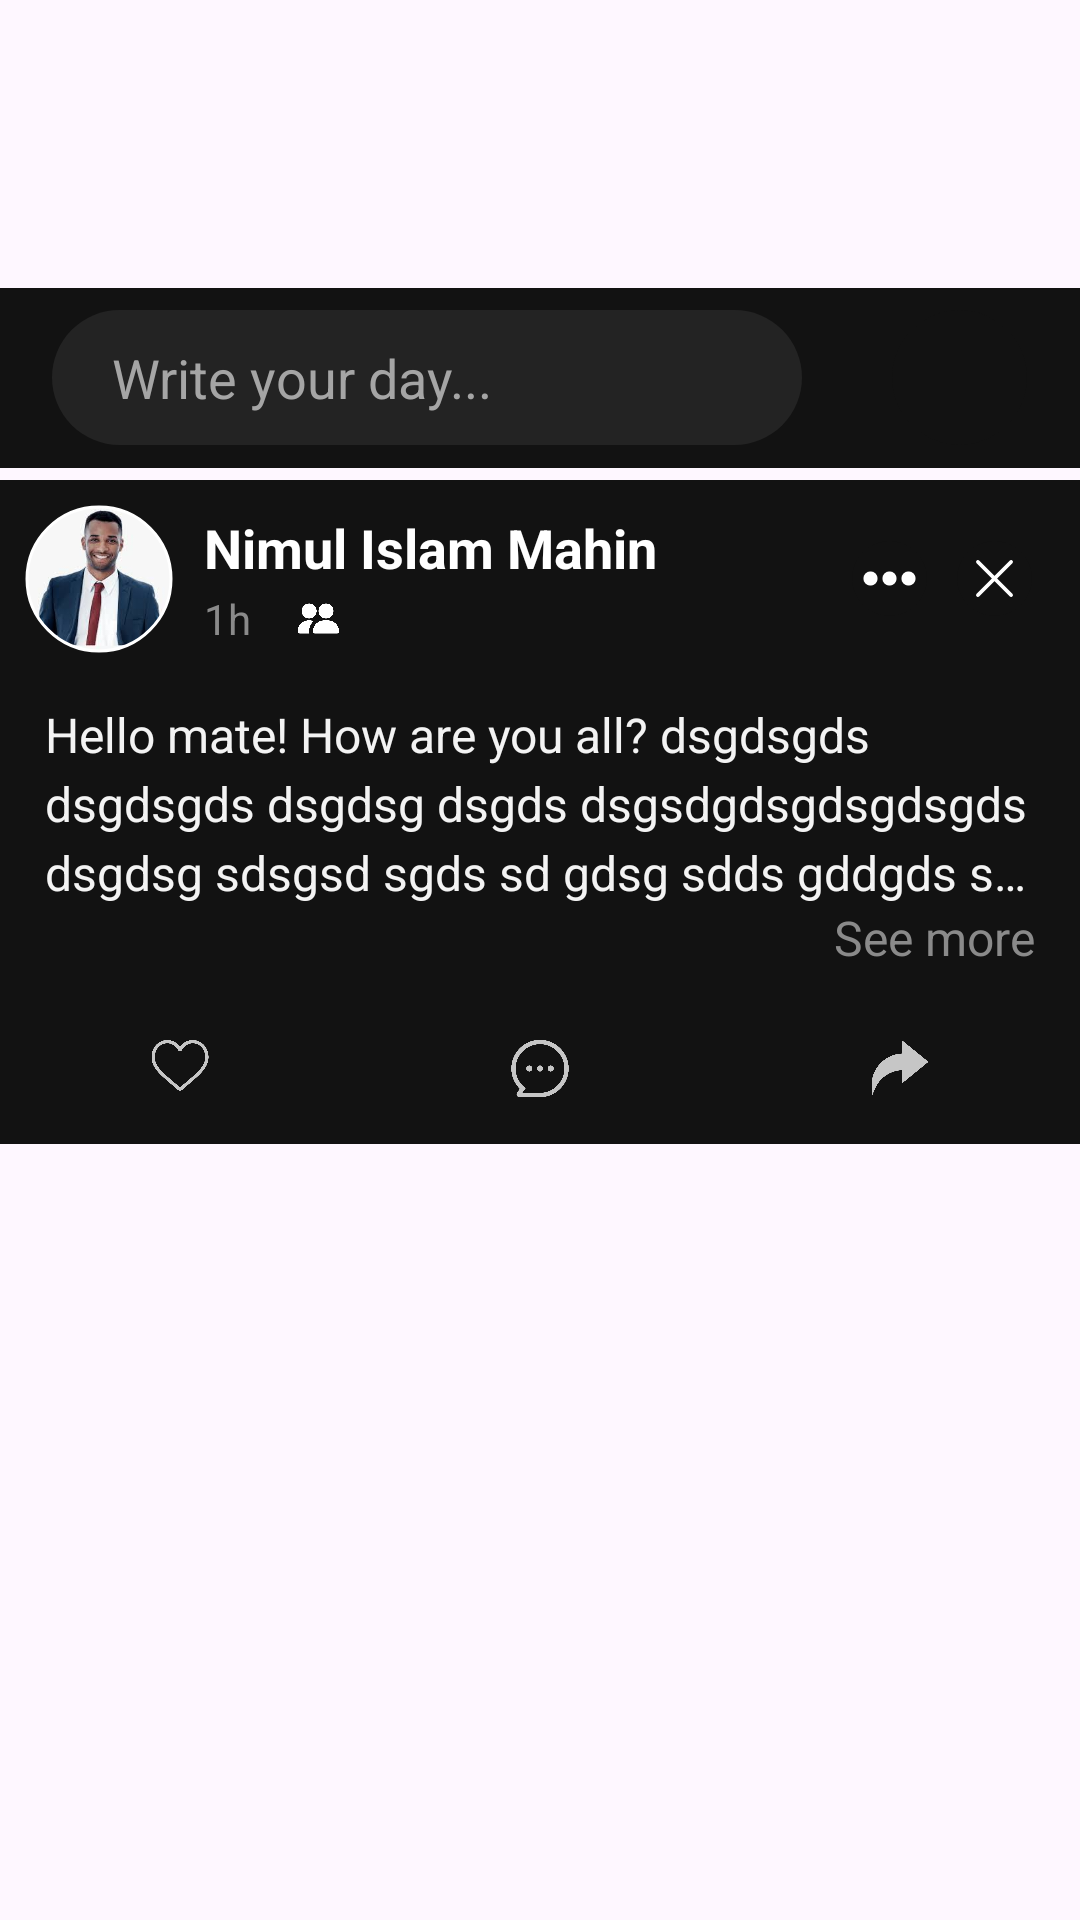

Named icons in this screenshot (1080x1920) and their bounding boxes, (x1, y1, x2, y2):
author: (25, 505, 173, 653)
comment stroke: (511, 1040, 569, 1097)
cross: (976, 560, 1013, 597)
heart stroke: (152, 1040, 209, 1091)
share: (872, 1041, 928, 1095)
system people: (298, 603, 339, 634)
system three dot: (863, 571, 916, 586)
